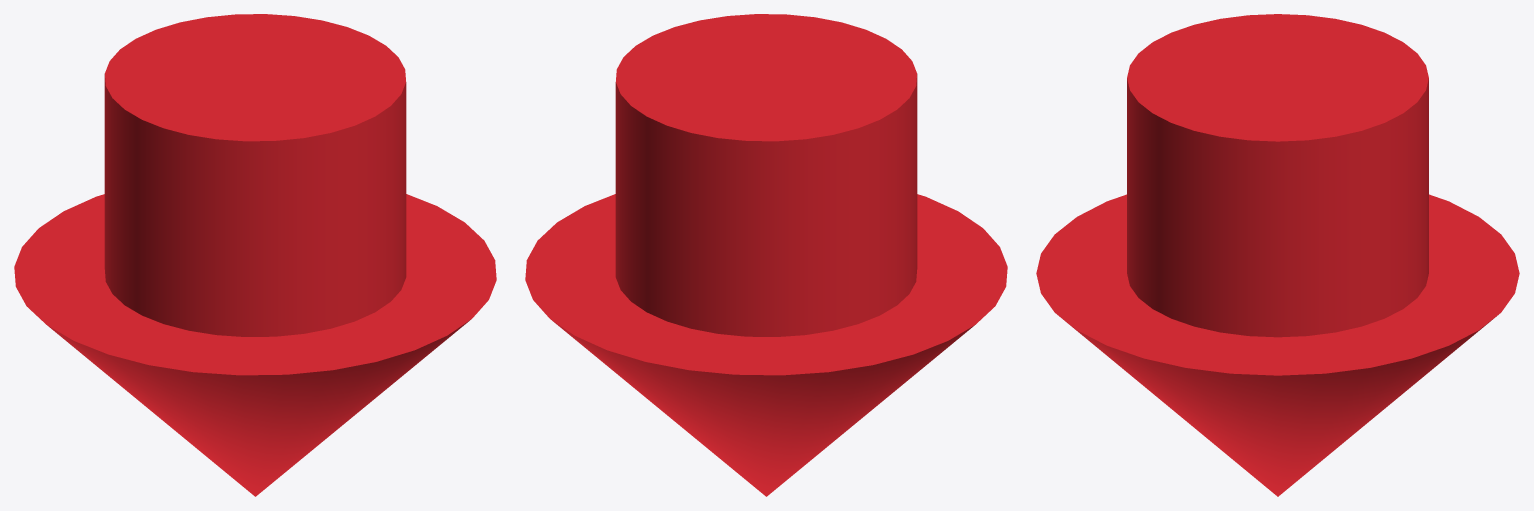
File: 3D箭頭.fbx
3 views of the same model, side by side, from view 1: azimuth 30°, elevation 25°; view 2: azimuth 150°, elevation 25°; view 3: azimuth 270°, elevation 25° (orthographic).
Parts seen in each view (by area): view 1: 圓柱體.001; view 2: 圓柱體.001; view 3: 圓柱體.001.
Boxes of the visible parts, left/top/right/bottom form: 圓柱體.001: left=14, top=14, right=496, bottom=496; 圓柱體.001: left=525, top=14, right=1007, bottom=496; 圓柱體.001: left=1036, top=14, right=1519, bottom=496.
Size of the model in its own units: 94.54 by 90.47 by 94.54.
